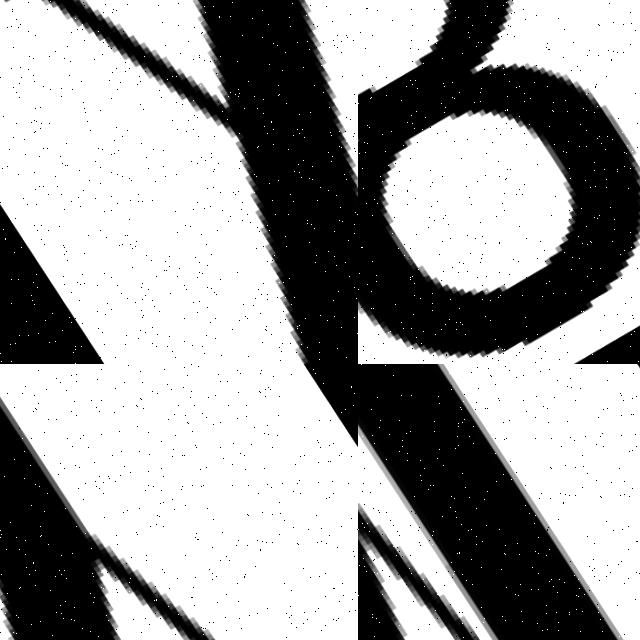8: (358, 0, 640, 364)
M: (358, 364, 640, 640)
X: (0, 0, 358, 364)
Y: (0, 364, 358, 640)
